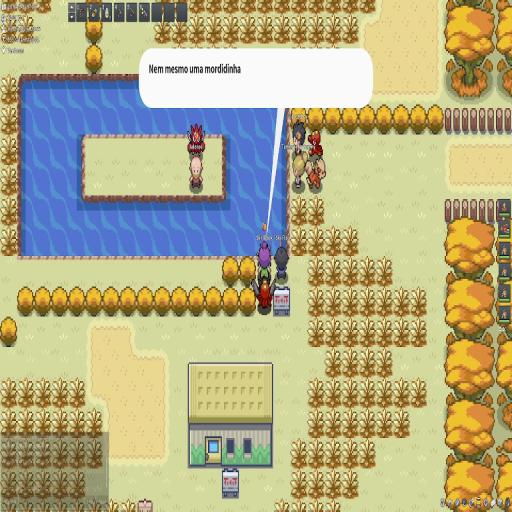NMUM: (147, 62, 242, 74)
